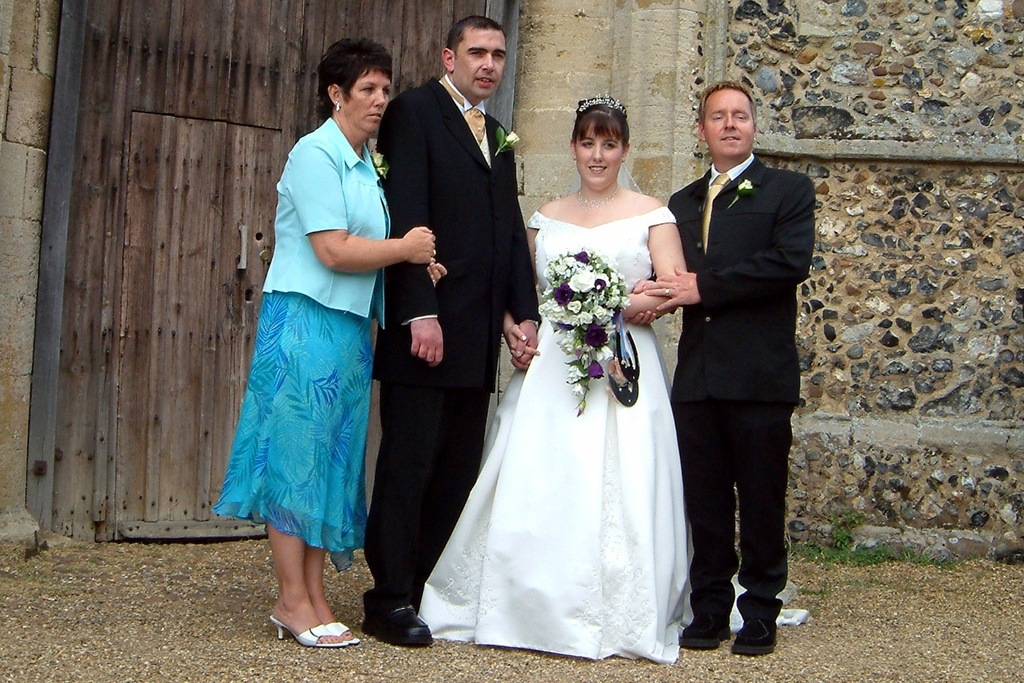Footwear: (367, 607, 438, 650), (270, 618, 346, 648), (732, 621, 784, 657), (680, 621, 730, 650), (326, 622, 362, 645)
